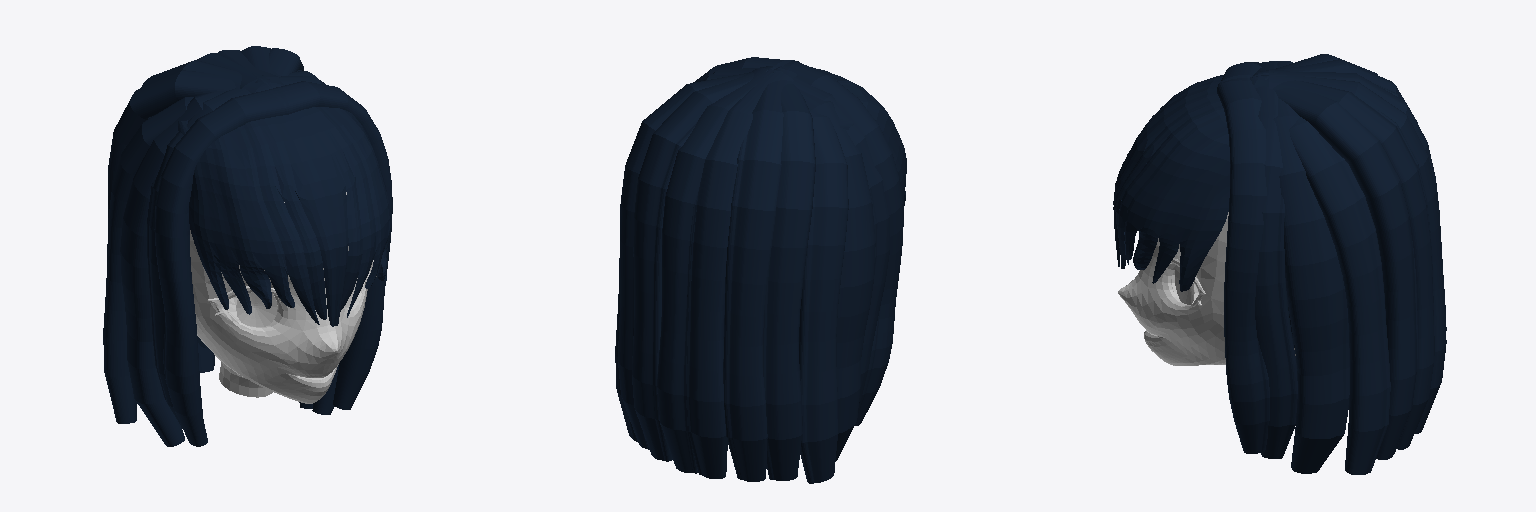
File: anima1.obj
The picture shows the model from 3 angles: view 1: azimuth 30°, elevation 25°; view 2: azimuth 150°, elevation 25°; view 3: azimuth 270°, elevation 25°; orthographic projection.
Parts seen in each view (by area): view 1: Plane, NurbsPath, Cube_Cube.001, NurbsPath.006, NurbsPath.005, NurbsPath.004, NurbsPath.001, NurbsPath.003, NurbsPath.002; view 2: NurbsPath.003, NurbsPath.002, NurbsPath.004, NurbsPath.005, NurbsPath.006, NurbsPath, NurbsPath.001, Plane; view 3: Plane, NurbsPath.006, NurbsPath.005, NurbsPath, NurbsPath.004, NurbsPath.001, Cube_Cube.001, NurbsPath.003, NurbsPath.002.
Boxes of the visible parts, box(x1,y1,x2,y2) form: Plane: box(178, 107, 390, 326); NurbsPath: box(154, 81, 392, 446); Cube_Cube.001: box(190, 192, 376, 403); NurbsPath.006: box(120, 71, 316, 446); NurbsPath.005: box(103, 70, 301, 423); NurbsPath.004: box(108, 48, 303, 403); NurbsPath.001: box(147, 75, 338, 446); NurbsPath.003: box(141, 46, 284, 93); NurbsPath.002: box(197, 50, 279, 372); NurbsPath.003: box(632, 66, 796, 481); NurbsPath.002: box(657, 68, 793, 478); NurbsPath.004: box(618, 73, 815, 480); NurbsPath.005: box(615, 112, 848, 483); NurbsPath.006: box(704, 74, 875, 460); NurbsPath: box(693, 57, 903, 425); NurbsPath.001: box(703, 66, 889, 402); Plane: box(811, 67, 906, 218); Plane: box(1113, 75, 1229, 291); NurbsPath.006: box(1273, 61, 1349, 473); NurbsPath.005: box(1289, 117, 1390, 474); NurbsPath: box(1217, 62, 1269, 453); NurbsPath.004: box(1275, 54, 1417, 459); NurbsPath.001: box(1250, 61, 1297, 458); Cube_Cube.001: box(1118, 212, 1295, 365); NurbsPath.003: box(1254, 59, 1434, 449); NurbsPath.002: box(1269, 69, 1446, 433).
Size of the model in its own units: 2.47 by 3.73 by 3.09.